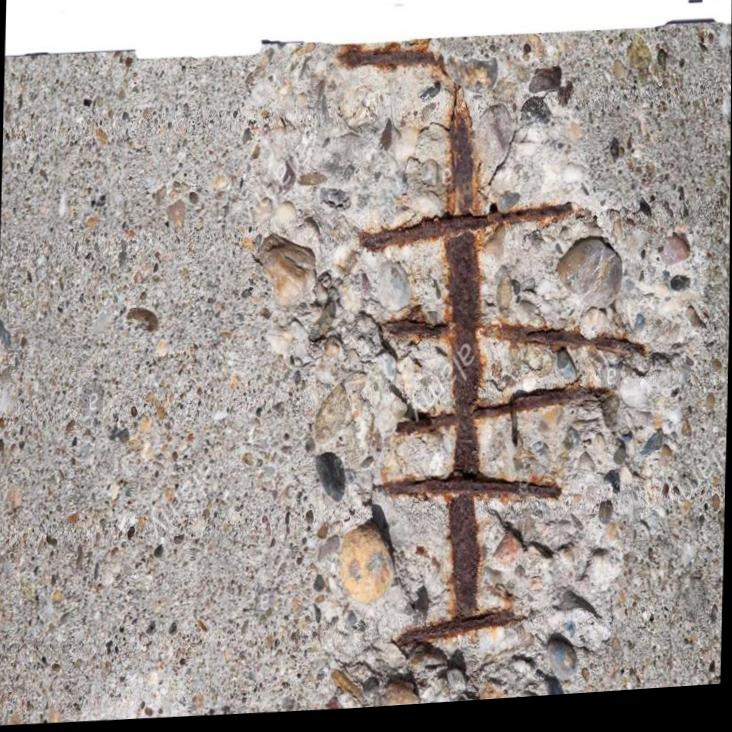damage: (260, 43, 709, 712)
